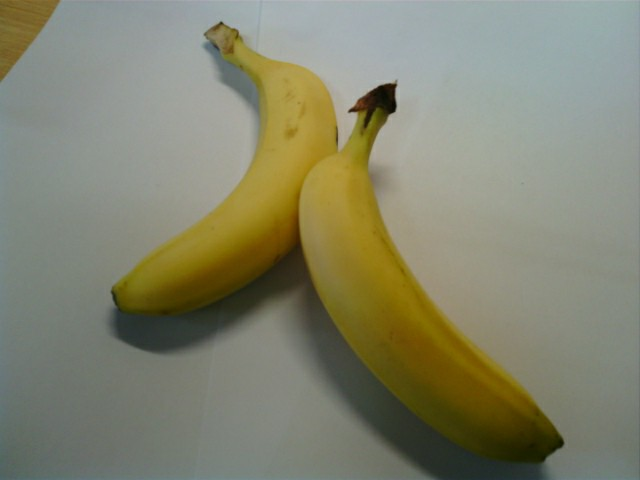fresh_banana: (295, 145, 568, 465), (106, 54, 336, 316)
